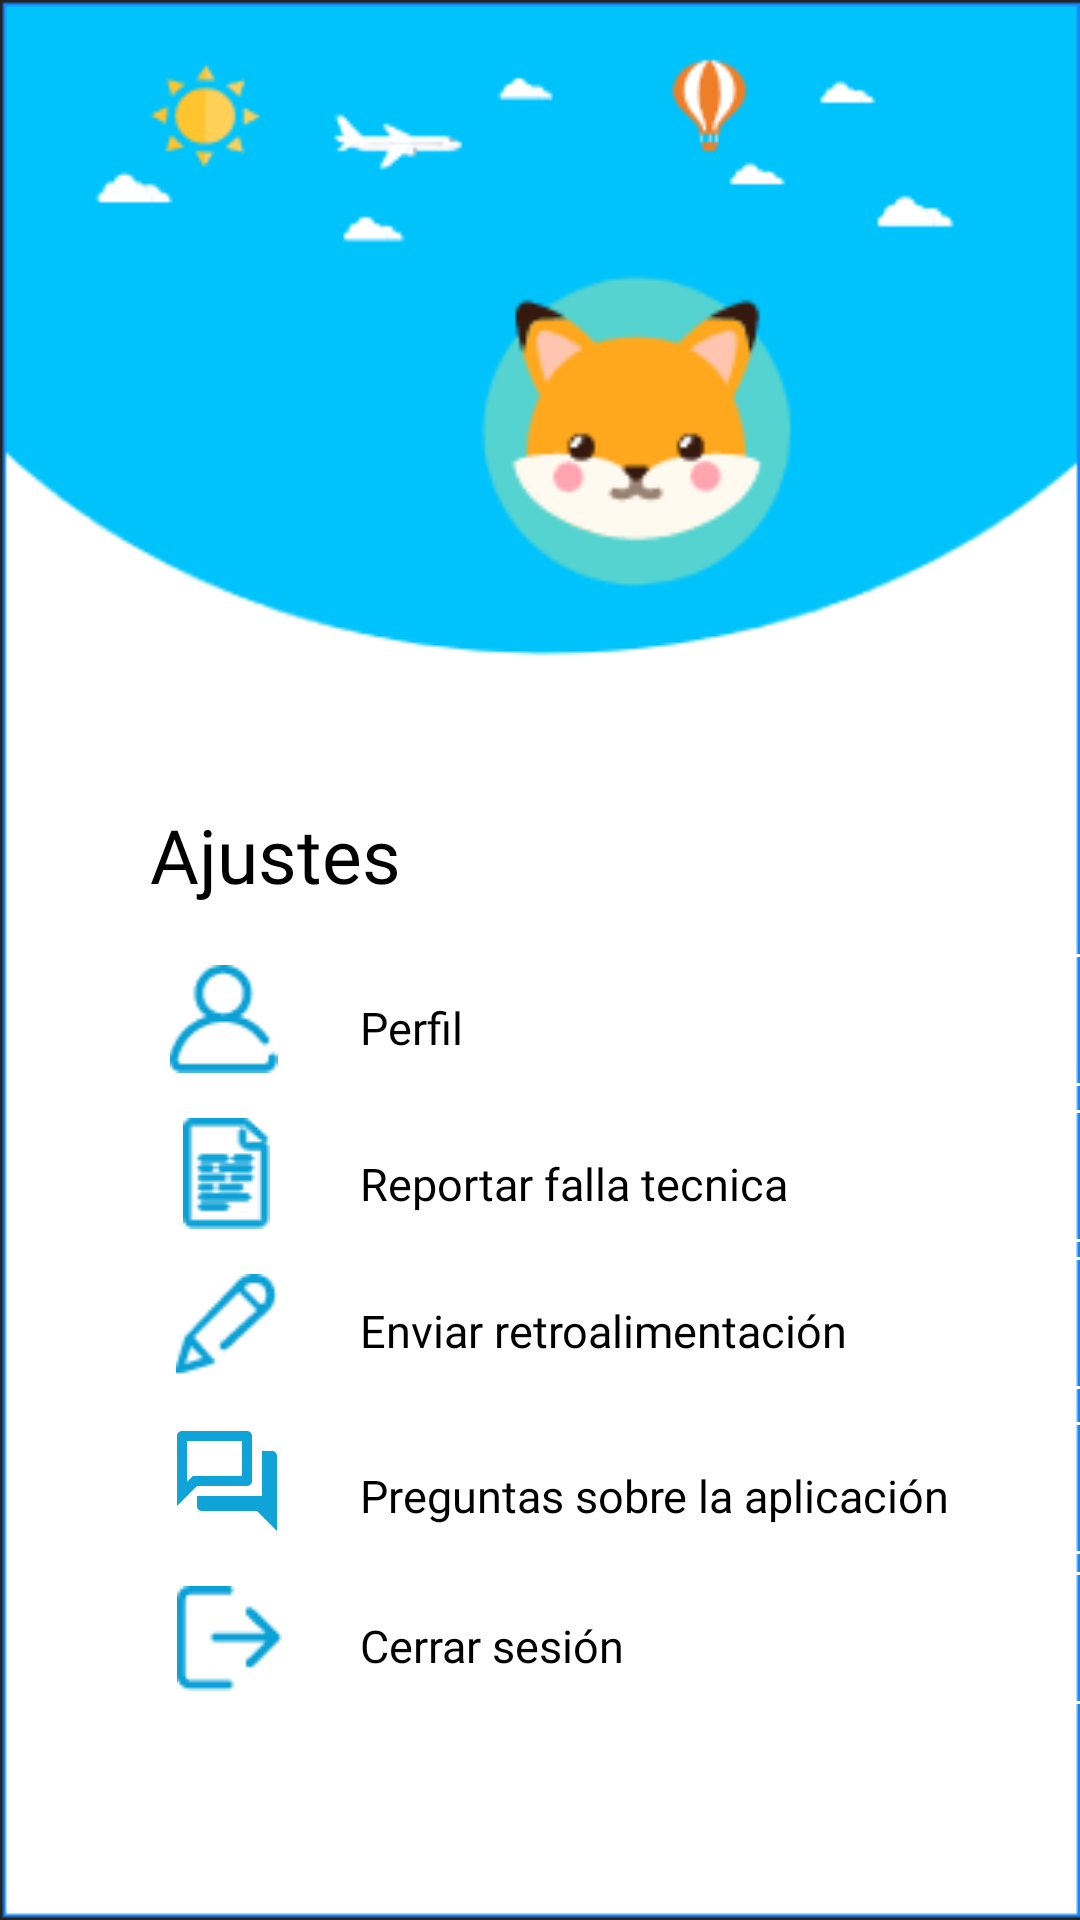

Point at icon controls on the screen. Image size 1080x1920, points as point (x, y).
cerrarsesion: point (229, 1638)
documento: point (226, 1173)
editar: point (227, 1324)
user: point (224, 1019)
